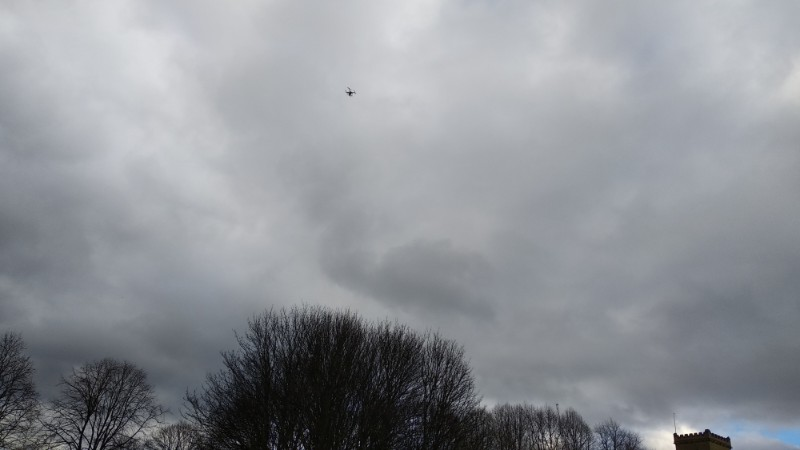drone: (344, 87, 357, 97)
